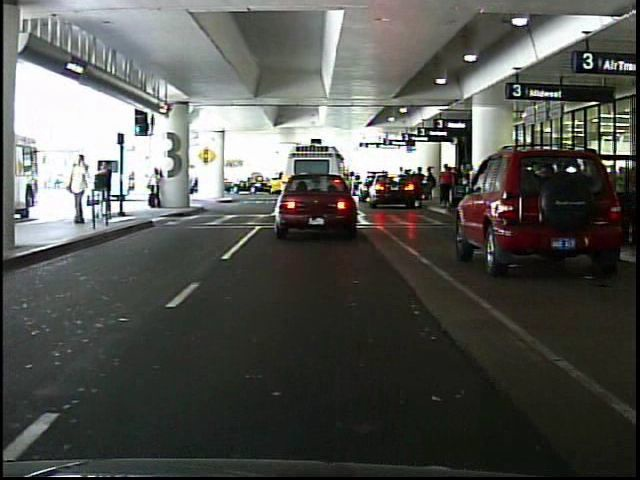person: (67, 151, 94, 230), (96, 157, 115, 222), (148, 166, 167, 211), (438, 162, 454, 210), (191, 164, 207, 203)
